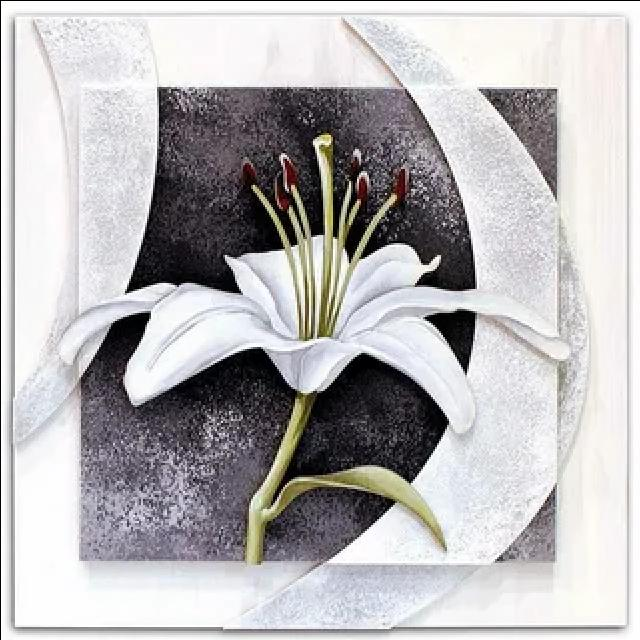lily: (56, 192, 562, 442)
